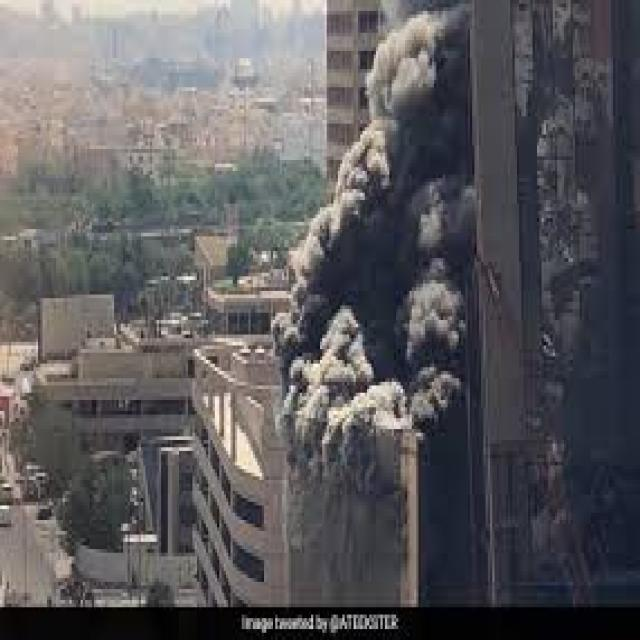Smoke: (271, 2, 477, 500)
